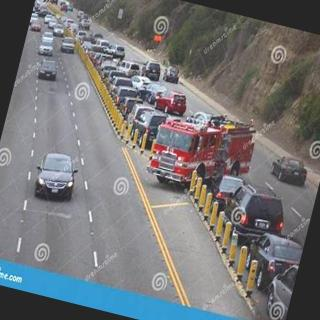Fire_truck: (142, 96, 262, 204)
